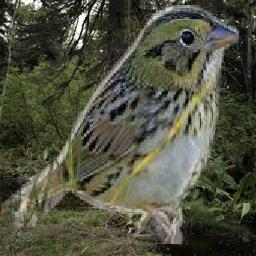Sparrow: (1, 4, 239, 245)
